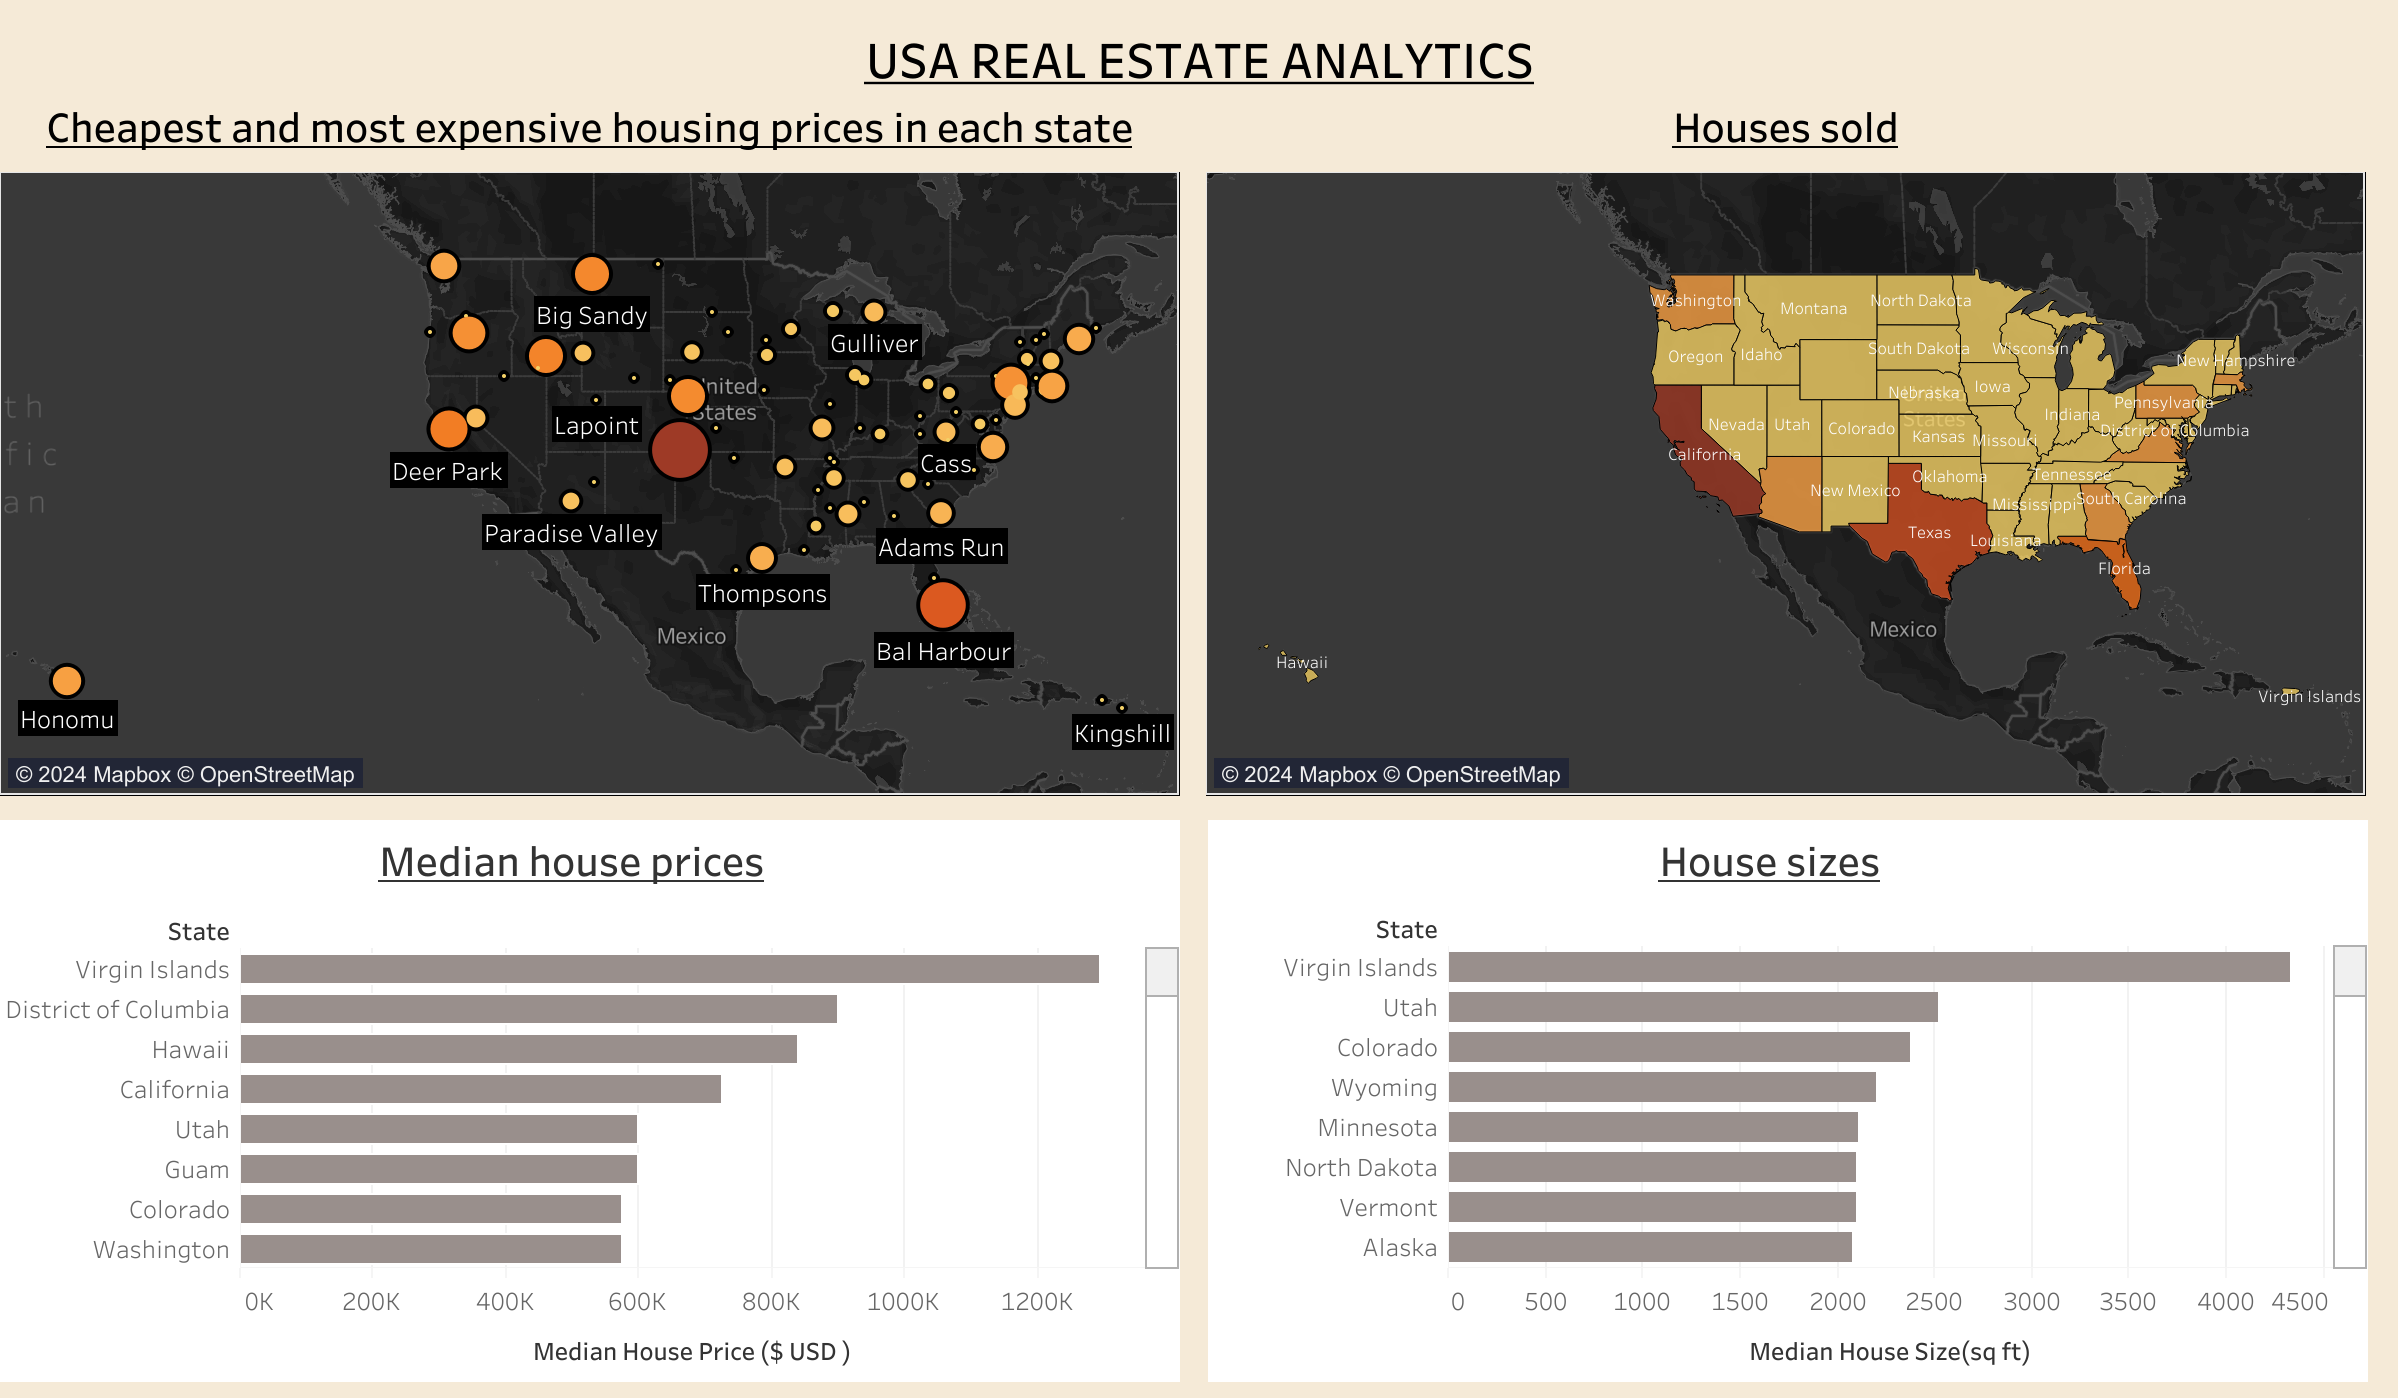

The dashboard page shown, as its layout file describes it:
{"tool":"tableau","page":{"name":"USA REAL ESTATE ANALYTICS","canvas":[1000,1000],"units":"permille","ordinal":0},"visuals":[{"type":"title","box":[6.7,11.4,986.7,58.6]},{"type":"worksheet","title":"house_prices","mark":"Automatic","box":[0,60.9,491.7,507.6]},{"type":"worksheet","title":"houses_sold","mark":"Multipolygon","box":[502.5,60.9,483.3,507.6]},{"type":"worksheet","title":"median_house_prices","mark":"Automatic","rows":["state"],"cols":["median_house_price"],"box":[0,586.3,491.7,401]},{"type":"worksheet","title":"house_size","mark":"Automatic","rows":["state"],"cols":["median_house_size"],"box":[503.3,586.3,483.3,401]}]}

Visuals, with their boxes on the dashboard's canvas, which has no fixed pixel size, in thousandths of its width and height (x1, y1, x2, y2). These are canvas units, not pixel positions in the 2398x1398 screenshot, which may show the page scaled, cropped or inside an application window:
title: 7:11:993:70
"house_prices" worksheet: 0:61:492:568
"houses_sold" worksheet (Multipolygon marks): 502:61:986:568
"median_house_prices" worksheet: 0:586:492:987
"house_size" worksheet: 503:586:987:987
